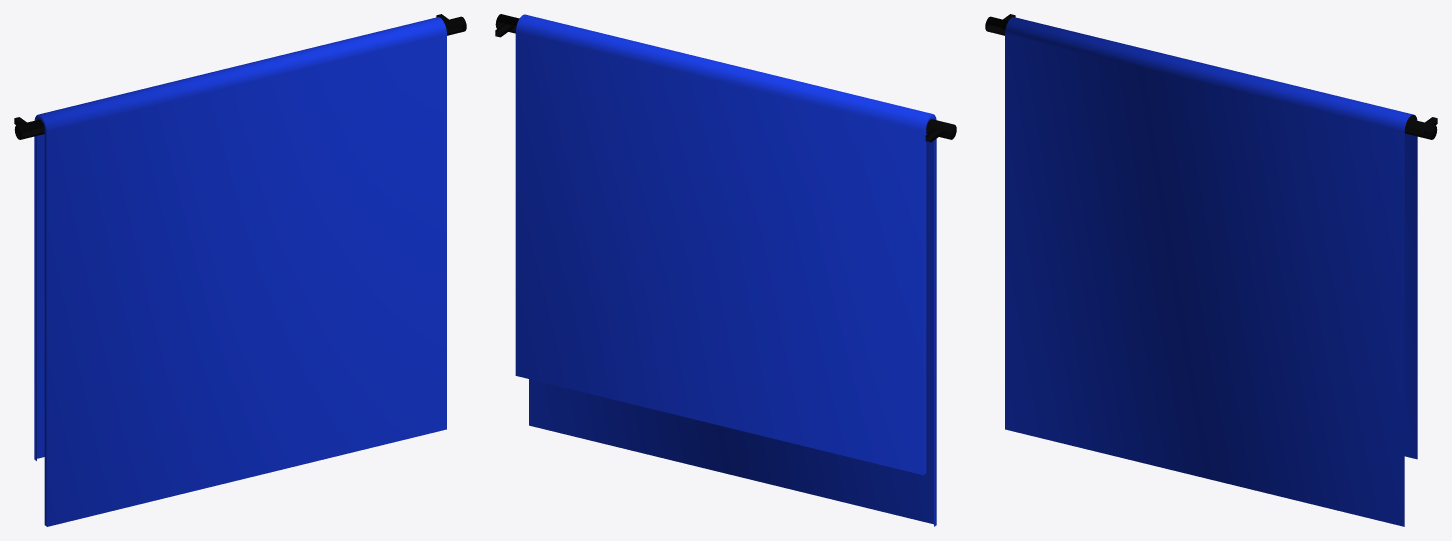
File: napkin.fbx
3 renders of one model, left to right at view 1: azimuth 30°, elevation 25°; view 2: azimuth 150°, elevation 25°; view 3: azimuth 330°, elevation 25°, orthographic. The views are drawn at different scales.
Parts seen in each view (by area): view 1: serveille, porte_serveilletes; view 2: serveille, porte_serveilletes; view 3: serveille, porte_serveilletes.
Boxes of the visible parts, x1,y1,x2,y2 form: serveille: [34, 17, 446, 526]; porte_serveilletes: [14, 14, 466, 139]; serveille: [515, 14, 936, 526]; porte_serveilletes: [495, 14, 956, 142]; serveille: [1005, 17, 1417, 526]; porte_serveilletes: [985, 14, 1437, 139].
Size of the model in its own units: 400 by 350 by 30.
